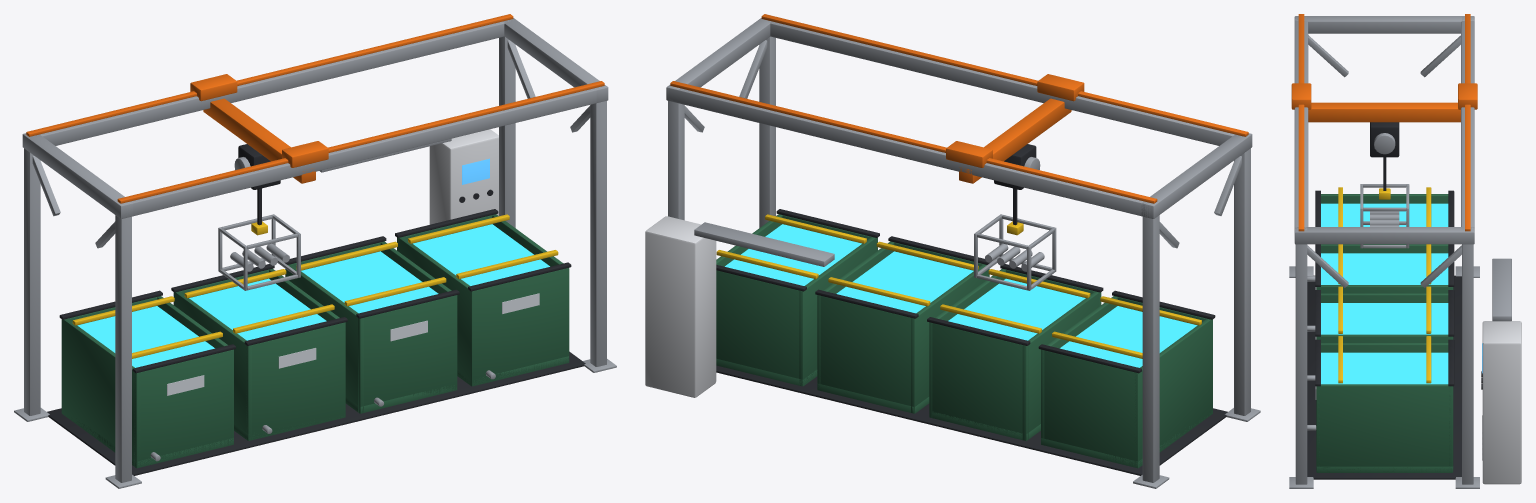
Rendered from Station_Plating.fbx.
3 renders of one model, left to right at view 1: azimuth 30°, elevation 25°; view 2: azimuth 150°, elevation 25°; view 3: azimuth 270°, elevation 25°, orthographic. The views are drawn at different scales.
Parts seen in each view (by area): view 1: Tanks, Gantry, Rectifier; view 2: Tanks, Gantry, Rectifier; view 3: Tanks, Gantry, Rectifier.
Part boxes in pixels (x1,y1,x2,y2): Tanks: (47,209,585,475); Gantry: (14,14,616,488); Rectifier: (320,129,498,224); Tanks: (716,209,1227,475); Gantry: (666,14,1260,488); Rectifier: (645,216,834,397); Tanks: (1307,187,1461,479); Gantry: (1289,14,1479,488); Rectifier: (1481,258,1521,484).
Size of the model in its own units: 5.35 by 2.96 by 2.38.
